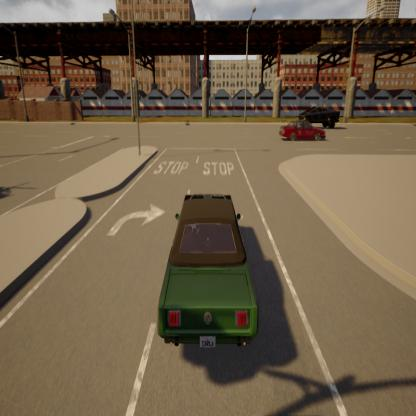Cars: (157, 188, 262, 355), (278, 118, 331, 143), (320, 117, 344, 131)
